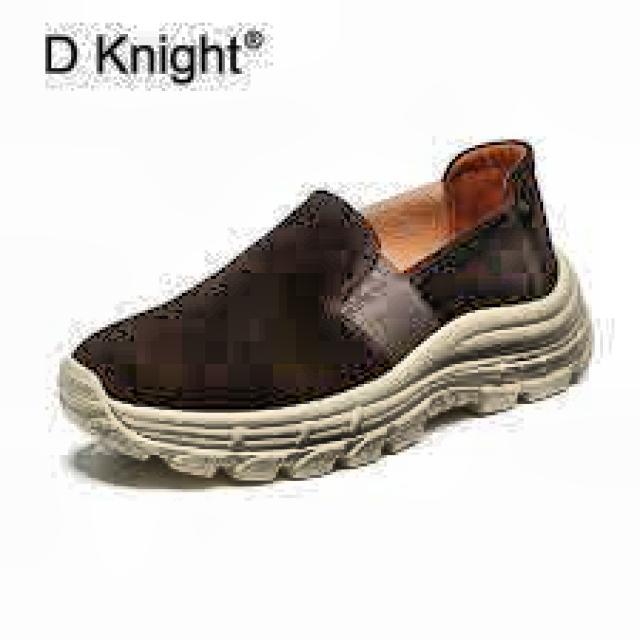shoes: (43, 128, 619, 500)
